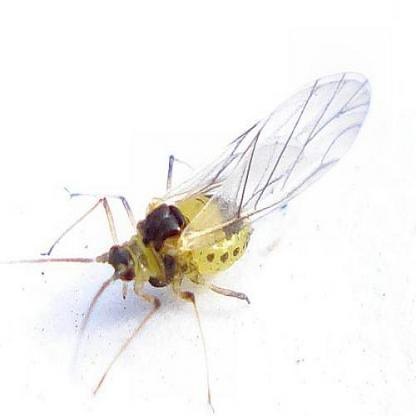aphid: (40, 60, 374, 380)
